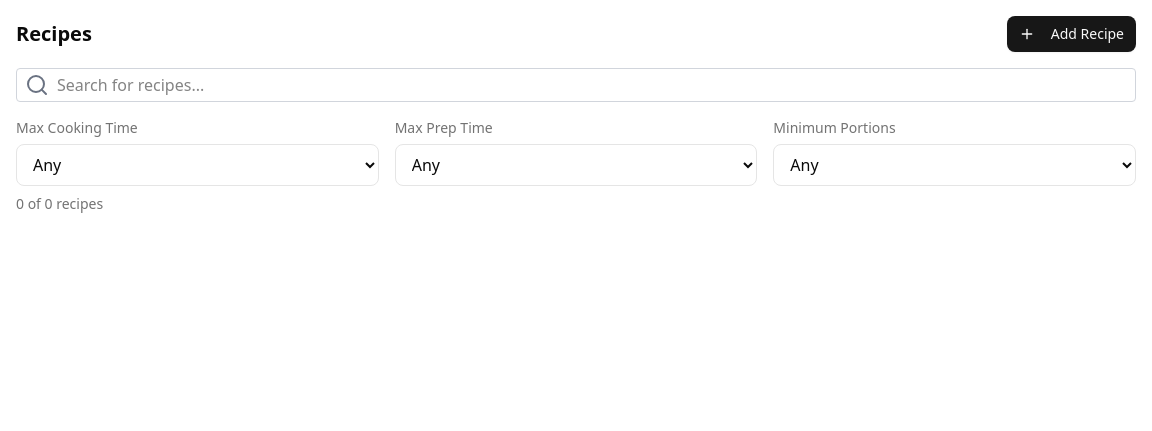
Test: RecipeList Filters › filters recipes by preparation time
The image size is (1152, 431).
Select "Under 15 min" in the dropdown labelled "Max Prep Time" at (576, 165), box [395,144,757,186]
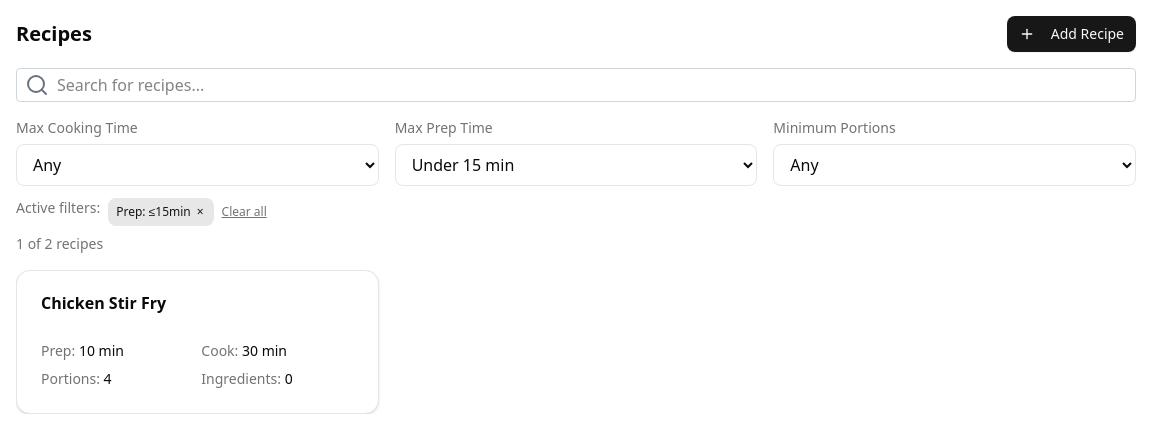
Expected: the text "Chicken Stir Fry" is shown, [41,292,166,314]
